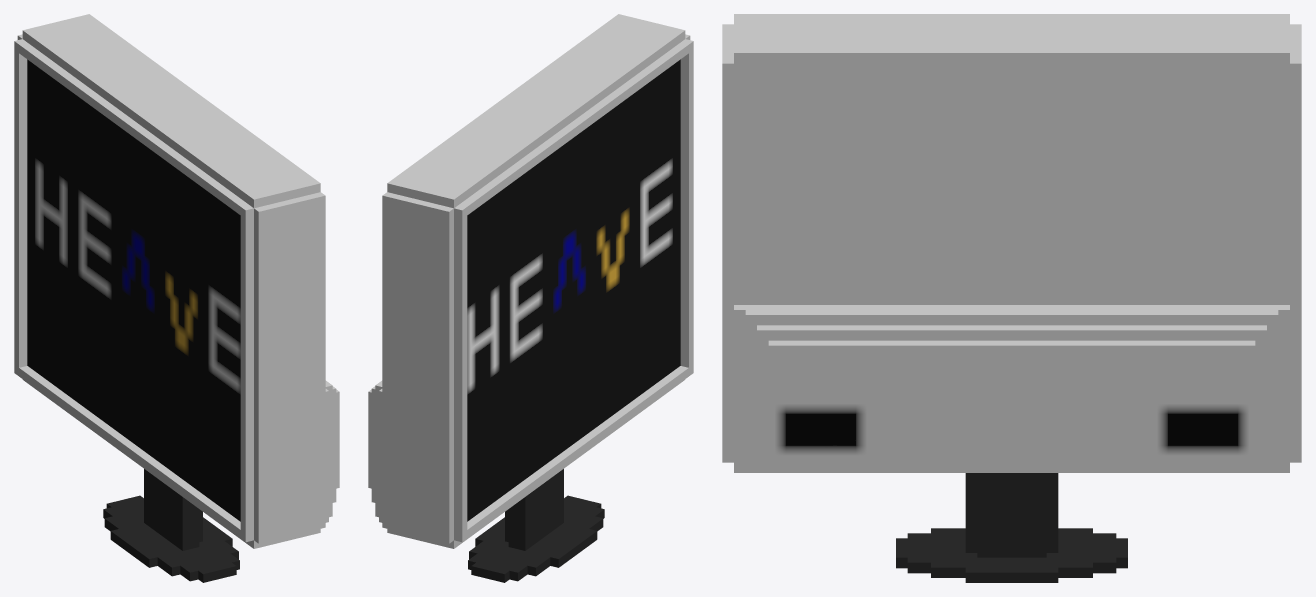
The model's file is LargeObject_TV.fbx.
3 renders of one model, left to right at view 1: azimuth 30°, elevation 25°; view 2: azimuth 150°, elevation 25°; view 3: azimuth 270°, elevation 25°, orthographic. The views are drawn at different scales.
Parts seen in each view (by area): view 1: TV; view 2: TV; view 3: TV.
Boxes of the visible parts, <box> form: TV: <box>14,14,339,582</box>; TV: <box>368,14,693,582</box>; TV: <box>722,14,1301,582</box>.
Bounding box in the file's own units: 13 × 50 × 50.
